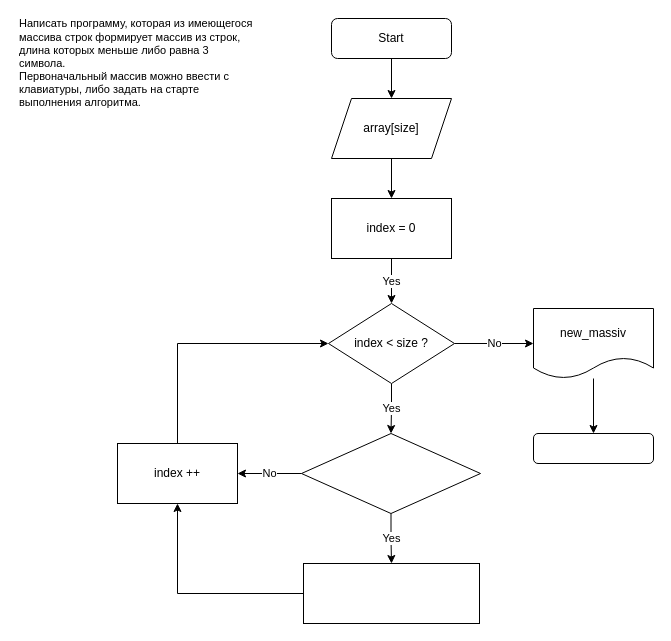
This 671x641 diagram has some shape labels left out. Here are the shapes that lost their labels. From the top down, the box of each, then its label:
(532, 432, 654, 464): end
(300, 432, 480, 514): array[index].Lenght =<3
(302, 562, 480, 624): new_massiv += array[index]
